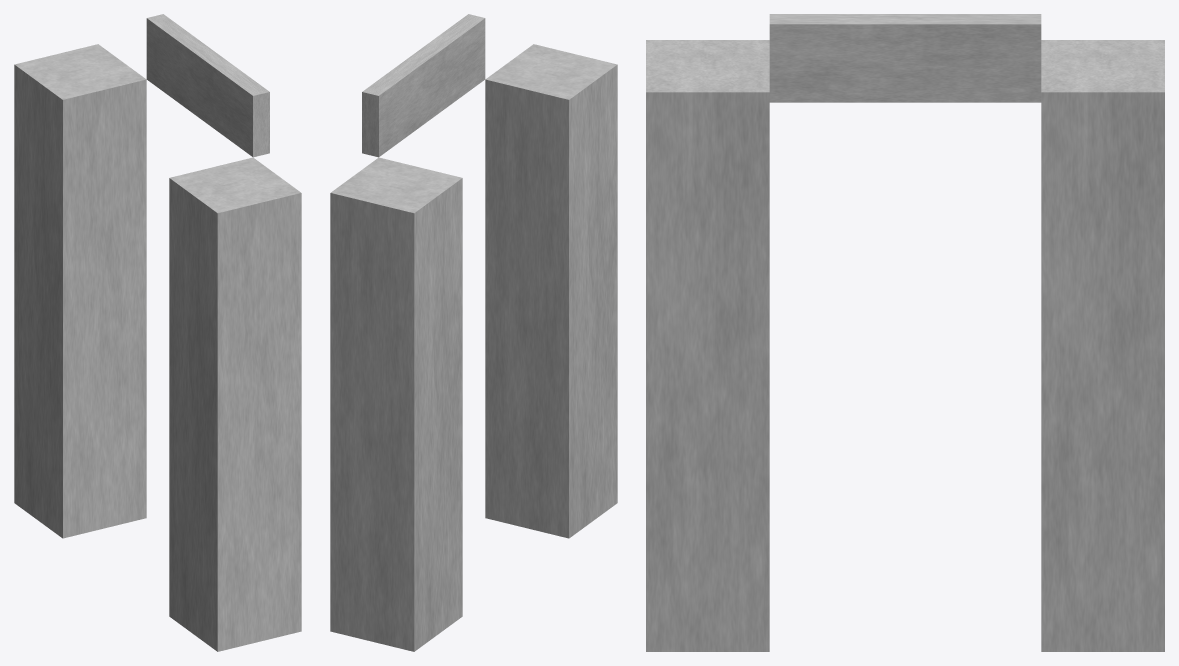
Rendered from map01.obj.
3 views of the same model, side by side, from view 1: azimuth 30°, elevation 25°; view 2: azimuth 150°, elevation 25°; view 3: azimuth 270°, elevation 25° (orthographic). The views are drawn at different scales.
Visible parts, largest first — view 1: 立方体.001, 立方体, 立方体.002; view 2: 立方体, 立方体.001, 立方体.002; view 3: 立方体, 立方体.001, 立方体.002.
Boxes of the visible parts, x1,y1,x2,y2 form: 立方体.001: [14, 44, 146, 538]; 立方体: [169, 157, 301, 651]; 立方体.002: [146, 14, 269, 157]; 立方体: [485, 44, 617, 538]; 立方体.001: [330, 157, 462, 651]; 立方体.002: [362, 14, 485, 157]; 立方体: [646, 40, 769, 651]; 立方体.001: [1041, 40, 1164, 651]; 立方体.002: [769, 14, 1041, 102].
Bounding box in the file's own units: 12 × 57 × 42.
1 material, 1 textured.
